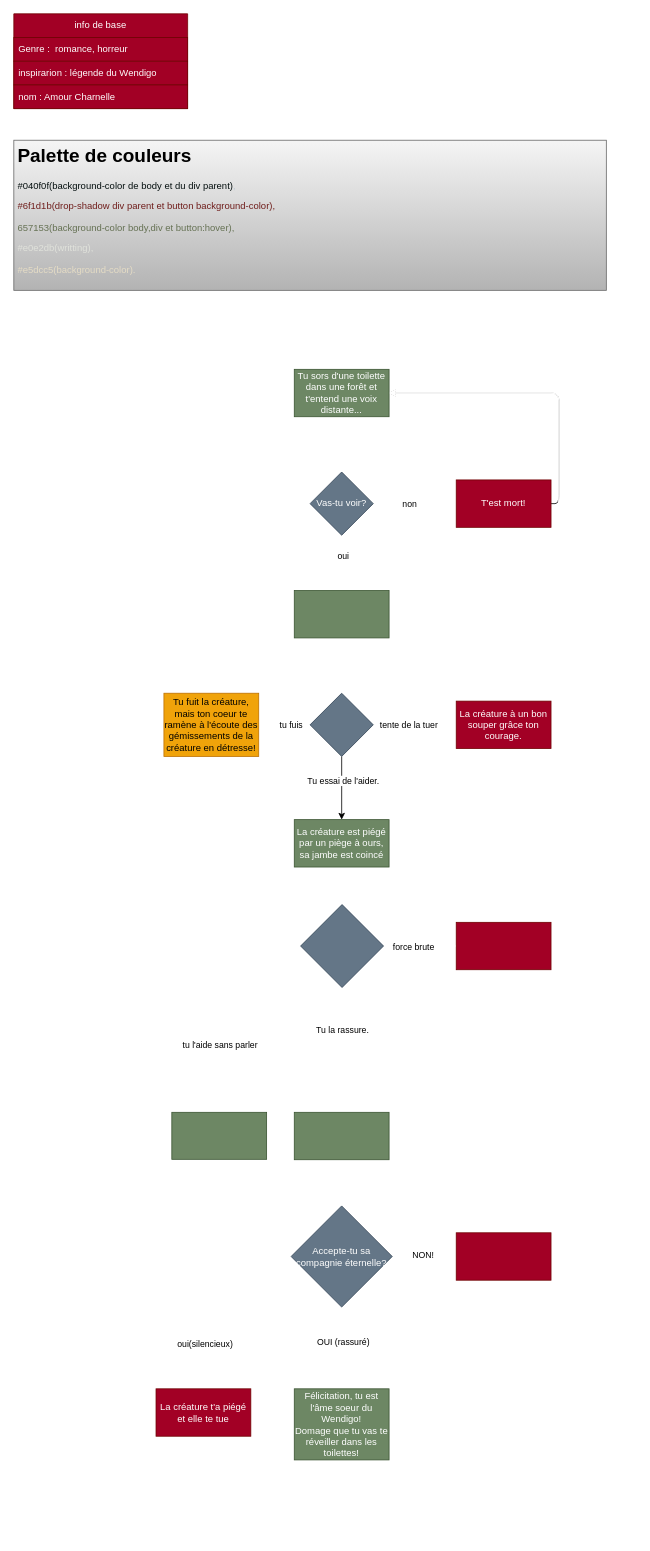
Image size: 650x1551. Some labels were removed from this diagram. The centre of each missing label's shape, as x and y in pixels:
"Comment tente-tu de la sauver?" goes at pixel 342 946.
"La créature semble sourir et celle-ci te tend la main..." goes at pixel 219 1135.
"La créature semble très prise de toi..." goes at pixel 341 1136.
"La créature t'attaque de douleur puis vous mourrez les deux de vos blessures." goes at pixel 503 946.
"Tu fais quoi?" goes at pixel 341 724.
"Tu lui a brisé le coeur, donc la créature à prit le tien." goes at pixel 503 1256.
"Tu vois une créature humanoïde qui semble en détresse." goes at pixel 341 614.
